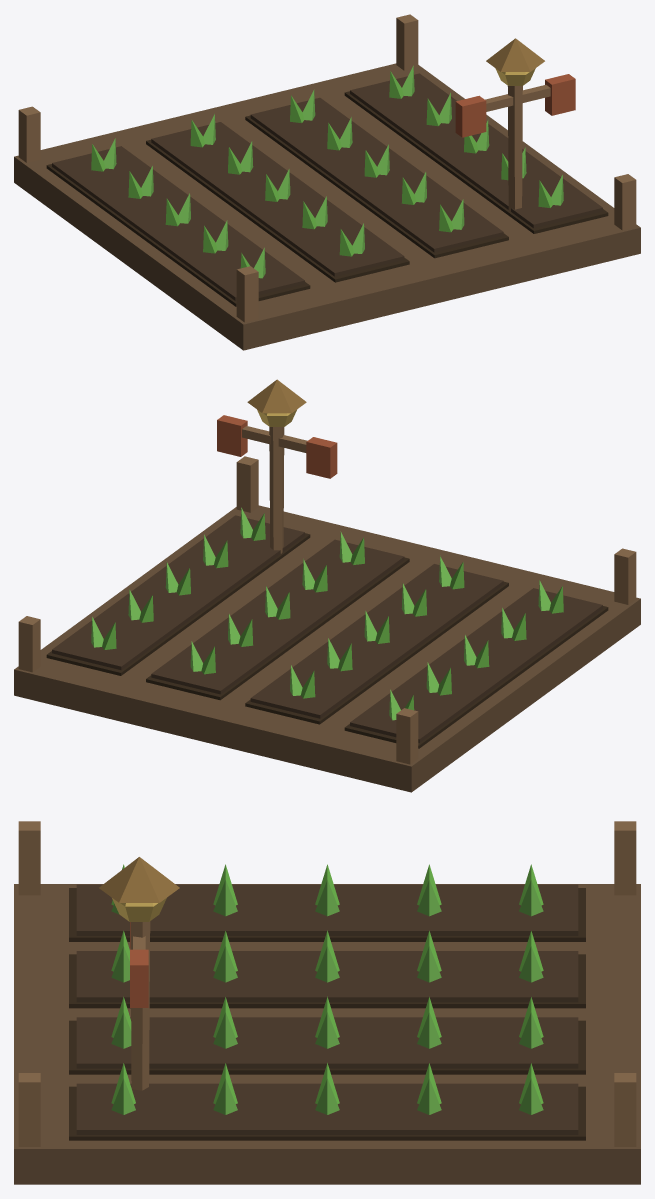
Rendered from farm.glb.
3 renders of one model, top to bottom at view 1: azimuth 30°, elevation 25°; view 2: azimuth 150°, elevation 25°; view 3: azimuth 270°, elevation 25°, orthographic. The views are drawn at different scales.
Parts seen in each view (by area): view 1: M_b0, M_b1, M_b5, M_b2, M_b3, M_b4, M_b8, M_b7; view 2: M_b0, M_b1, M_b5, M_b2, M_b3, M_b4, M_b8, M_b7; view 3: M_b1, M_b0, M_b2, M_b4, M_b5, M_b3, M_b7, M_b8, M_b6.
Boxes of the visible parts, left/top/right/bottom form: M_b0: left=14, top=63, right=640, bottom=350; M_b1: left=52, top=73, right=602, bottom=300; M_b5: left=18, top=14, right=636, bottom=322; M_b2: left=46, top=91, right=608, bottom=306; M_b3: left=91, top=71, right=552, bottom=268; M_b4: left=104, top=65, right=563, bottom=278; M_b8: left=455, top=74, right=575, bottom=137; M_b7: left=486, top=38, right=544, bottom=71; M_b0: left=14, top=505, right=640, bottom=792; M_b1: left=52, top=515, right=602, bottom=742; M_b5: left=18, top=426, right=636, bottom=764; M_b2: left=46, top=533, right=608, bottom=748; M_b3: left=102, top=513, right=563, bottom=710; M_b4: left=91, top=507, right=550, bottom=720; M_b8: left=217, top=415, right=337, bottom=478; M_b7: left=247, top=379, right=306, bottom=413; M_b1: left=76, top=884, right=578, bottom=1134; M_b0: left=14, top=884, right=640, bottom=1184; M_b2: left=69, top=888, right=585, bottom=1140; M_b4: left=111, top=879, right=543, bottom=1114; M_b5: left=18, top=821, right=636, bottom=1146; M_b3: left=111, top=864, right=543, bottom=1104; M_b7: left=99, top=857, right=179, bottom=902; M_b8: left=130, top=922, right=148, bottom=1007; M_b6: left=112, top=898, right=166, bottom=921.
Size of the model in its own units: 4 by 1.94 by 4.
